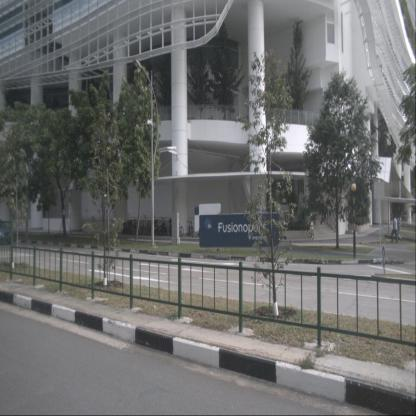human-pedestrian-adult: (390, 215, 398, 242), (396, 215, 402, 242)
vehicle-bicycle: (169, 218, 184, 237), (306, 222, 314, 241), (186, 220, 194, 237)
vehicle-car: (0, 220, 12, 244)
